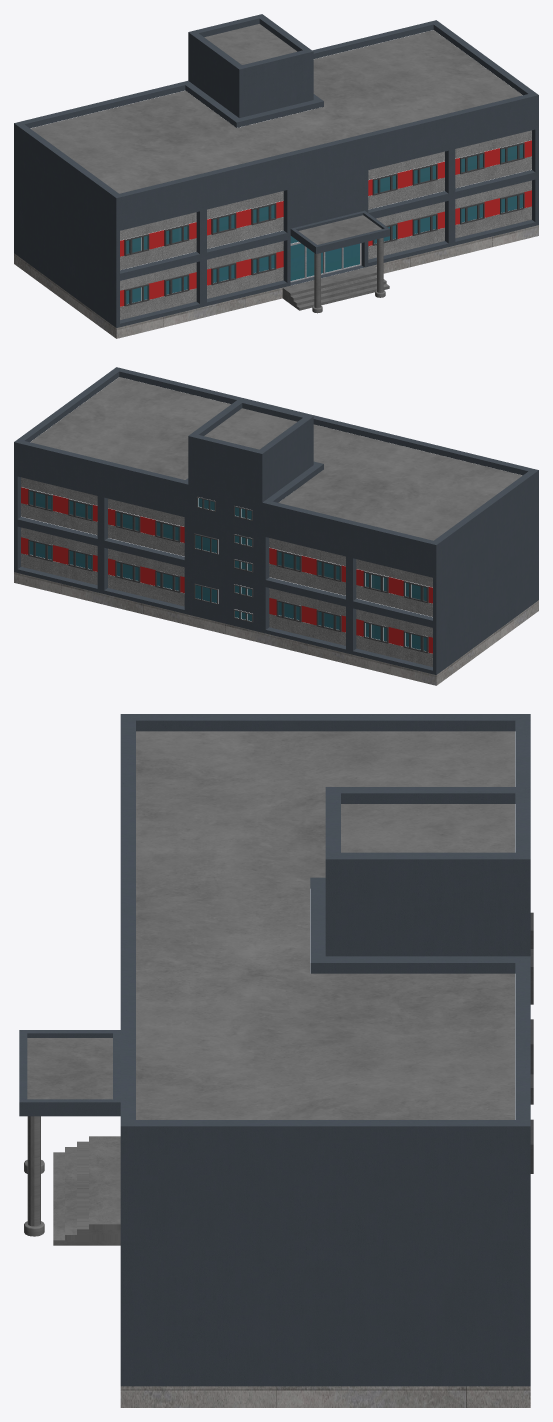
Rendered from 选矿办公楼.glb.
3 views of the same model, one above another, from view 1: azimuth 30°, elevation 25°; view 2: azimuth 150°, elevation 25°; view 3: azimuth 270°, elevation 25° (orthographic). The views are drawn at different scales.
Parts seen in each view (by area): view 1: 选矿办公楼01, 选矿办公楼00, 选矿办公楼02, 选矿办公楼05, 选矿办公楼07, 选矿办公楼04, 选矿办公楼03, 选矿办公楼06; view 2: 选矿办公楼01, 选矿办公楼00, 选矿办公楼02, 选矿办公楼07, 选矿办公楼04, 选矿办公楼05, 选矿办公楼03; view 3: 选矿办公楼01, 选矿办公楼00, 选矿办公楼07, 选矿办公楼04.
Boxes of the visible parts, x1=… form: 选矿办公楼01: x1=14, y1=14, x2=538, y2=327; 选矿办公楼00: x1=30, y1=24, x2=522, y2=313; 选矿办公楼02: x1=120, y1=130, x2=531, y2=319; 选矿办公楼05: x1=126, y1=144, x2=522, y2=304; 选矿办公楼07: x1=14, y1=225, x2=538, y2=338; 选矿办公楼04: x1=124, y1=106, x2=524, y2=306; 选矿办公楼03: x1=120, y1=140, x2=531, y2=306; 选矿办公楼06: x1=290, y1=242, x2=361, y2=282; 选矿办公楼01: x1=14, y1=367, x2=538, y2=674; 选矿办公楼00: x1=30, y1=377, x2=522, y2=540; 选矿办公楼02: x1=21, y1=477, x2=432, y2=666; 选矿办公楼07: x1=14, y1=572, x2=538, y2=685; 选矿办公楼04: x1=28, y1=489, x2=428, y2=653; 选矿办公楼05: x1=30, y1=491, x2=426, y2=651; 选矿办公楼03: x1=21, y1=487, x2=432, y2=653; 选矿办公楼01: x1=19, y1=714, x2=530, y2=1386; 选矿办公楼00: x1=24, y1=731, x2=514, y2=1245; 选矿办公楼07: x1=120, y1=1386, x2=530, y2=1407; 选矿办公楼04: x1=530, y1=912, x2=533, y2=1173.
Bounding box in the file's own units: 31.68 × 13.57 × 16.71.
8 materials, 7 textured.
